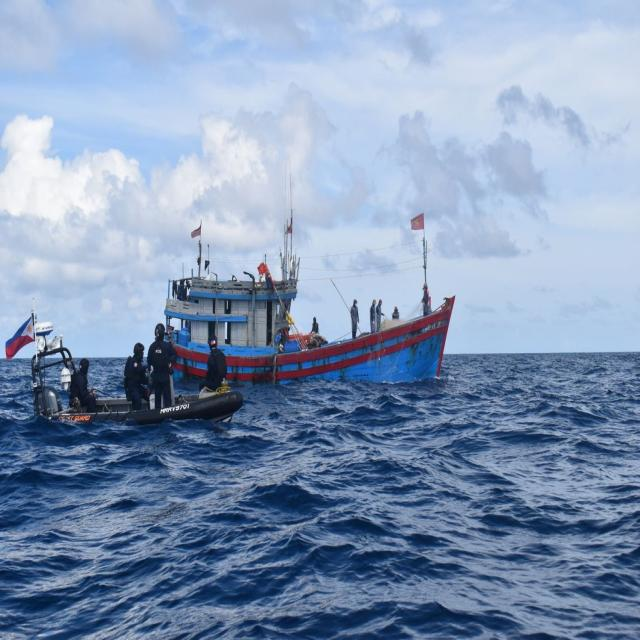Fishing Boat: (120, 181, 478, 380), (1, 284, 212, 457)
